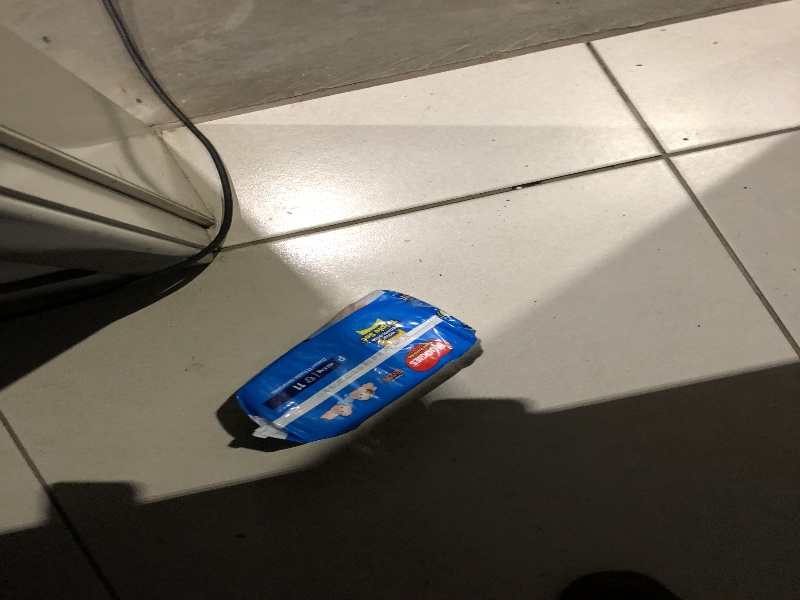fralda: (215, 295, 476, 439)
